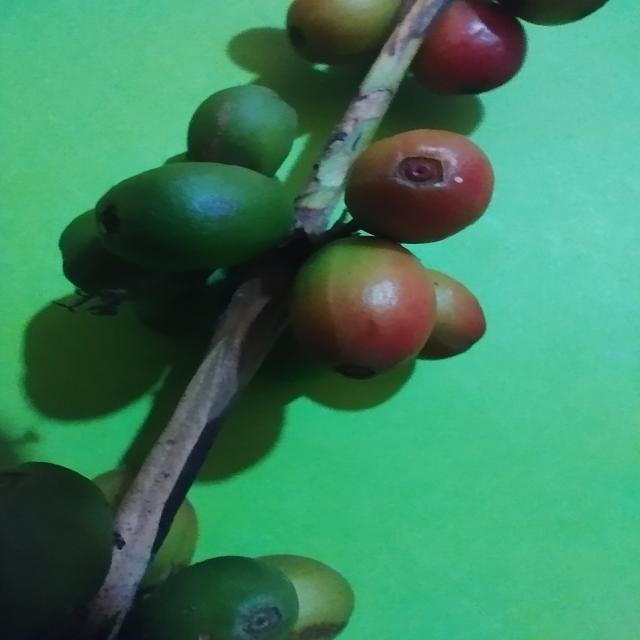Sano: (95, 163, 299, 283), (289, 235, 436, 382), (344, 128, 496, 245)
